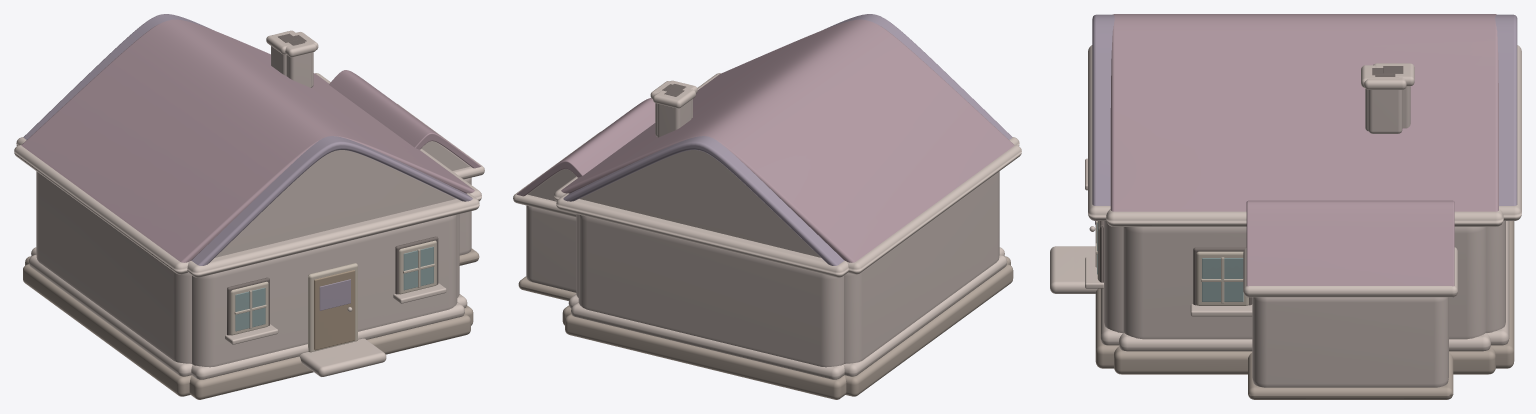
File: small-island-props-v45.glb
3 renders of one model, left to right at view 1: azimuth 30°, elevation 25°; view 2: azimuth 150°, elevation 25°; view 3: azimuth 270°, elevation 25°, orthographic. The views are drawn at different scales.
Visible parts, largest first — view 1: cottage-pink, cottage-taupe, cottage-annex; view 2: cottage-pink, cottage-taupe, cottage-annex; view 3: cottage-pink, cottage-annex, cottage-taupe.
Part boxes in pixels (box(x1,y1,x2,y2)): cottage-pink: box(14, 19, 481, 396); cottage-taupe: box(16, 14, 479, 399); cottage-annex: box(285, 33, 484, 366); cottage-pink: box(554, 19, 1021, 396); cottage-taupe: box(556, 14, 1019, 399); cottage-annex: box(513, 80, 697, 301); cottage-pink: box(1074, 14, 1503, 374); cottage-annex: box(1081, 65, 1457, 399); cottage-taupe: box(1050, 14, 1521, 368).
Bounding box in the file's own units: 11.1 × 6.57 × 10.33.
